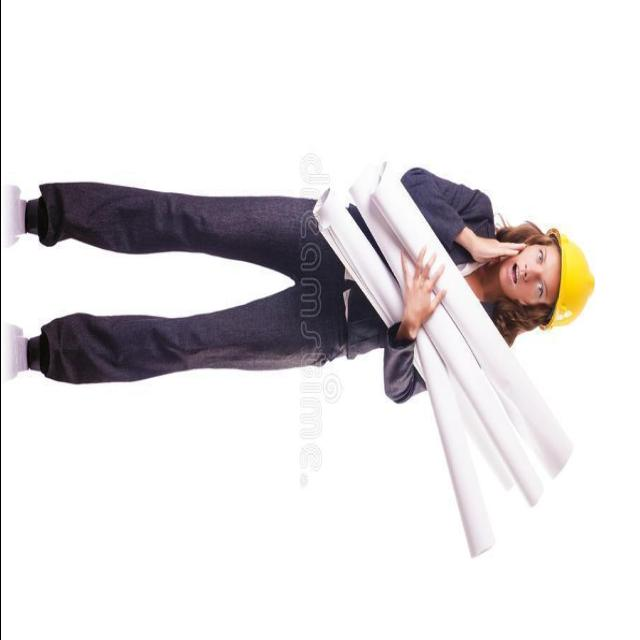helmet: (534, 220, 596, 336)
